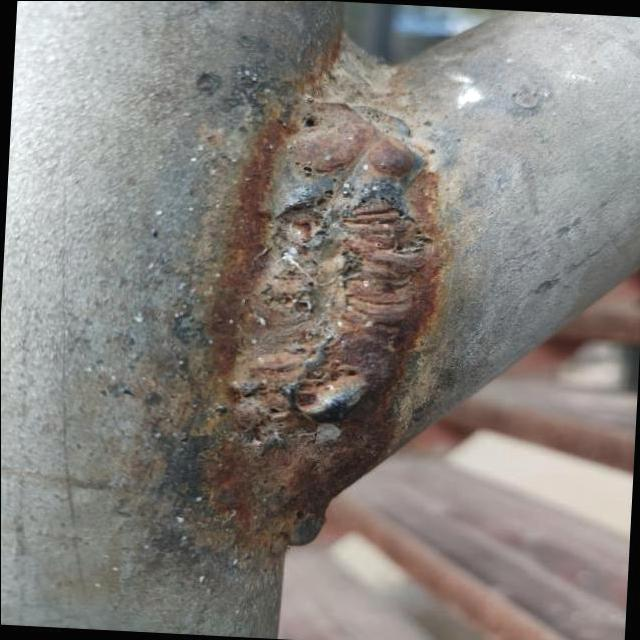defect: (351, 187, 426, 256), (267, 186, 337, 243), (294, 361, 359, 407), (336, 232, 373, 274), (271, 289, 316, 314), (289, 156, 319, 178), (297, 110, 323, 131), (262, 403, 286, 418), (239, 390, 259, 402)
